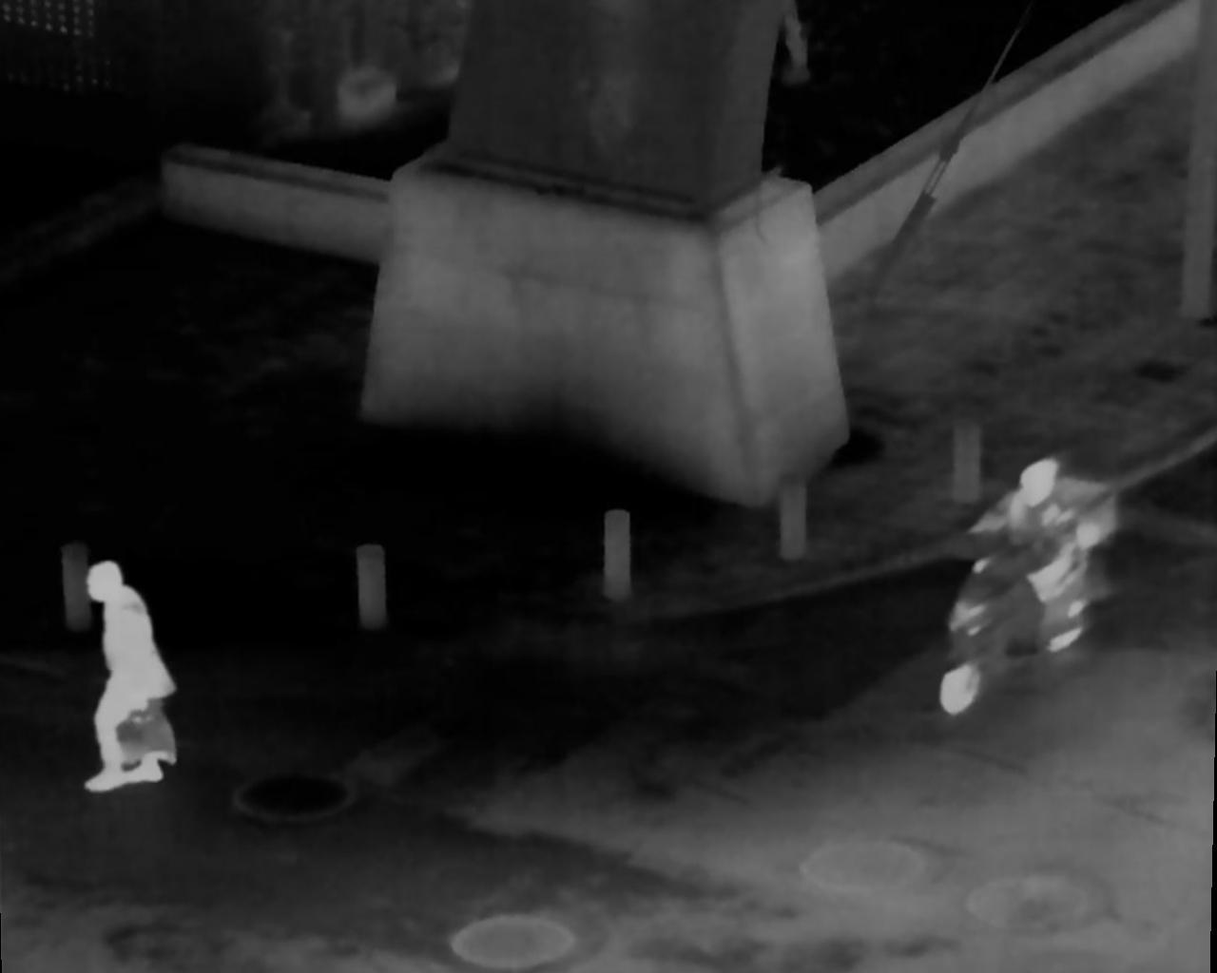person: (978, 449, 1099, 678), (81, 553, 184, 791)
